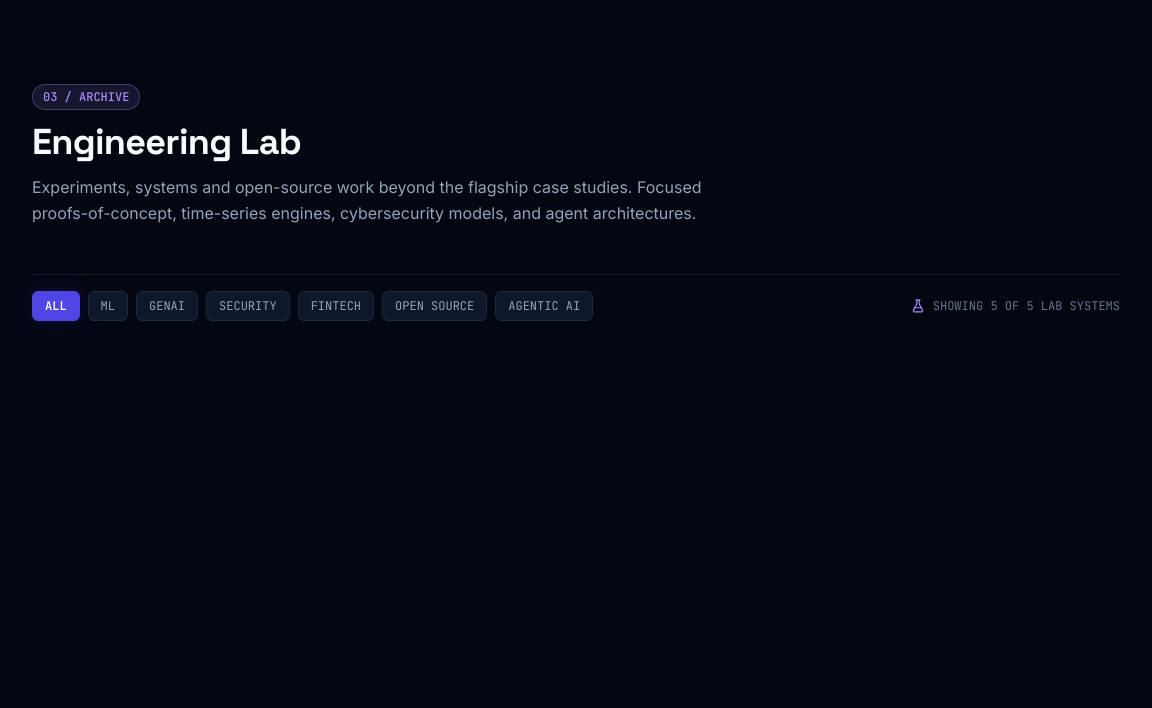
Scenario: Phase 4: How I Build & Engineering Lab › Engineering Lab (Technical Archive & Open Source) › filters projects interactively when selecting category buttons
Click the button "SECURITY": (248, 306) [206, 291, 290, 321]
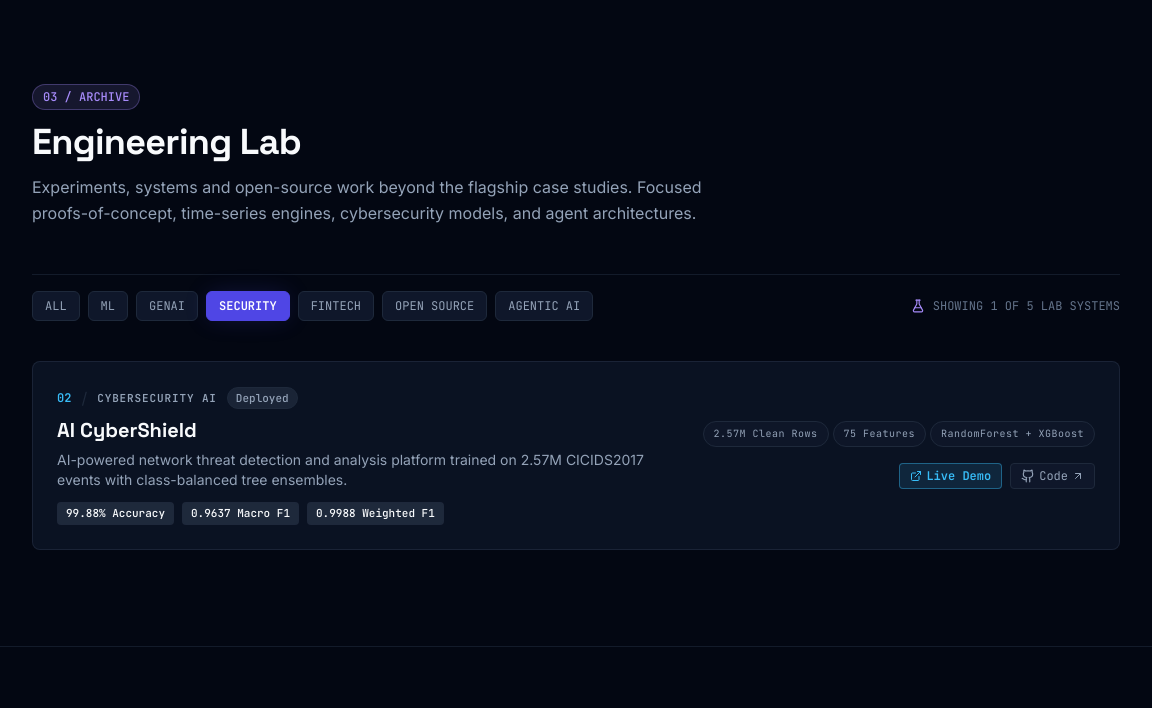
expect the text "TriviaPay" is not shown: met
expect the heading "AI CyberShield" is shown: met, box [57, 417, 197, 443]
Reset to ALL
Click the button "ALL": (56, 306) [32, 291, 80, 321]
(page scrolled)
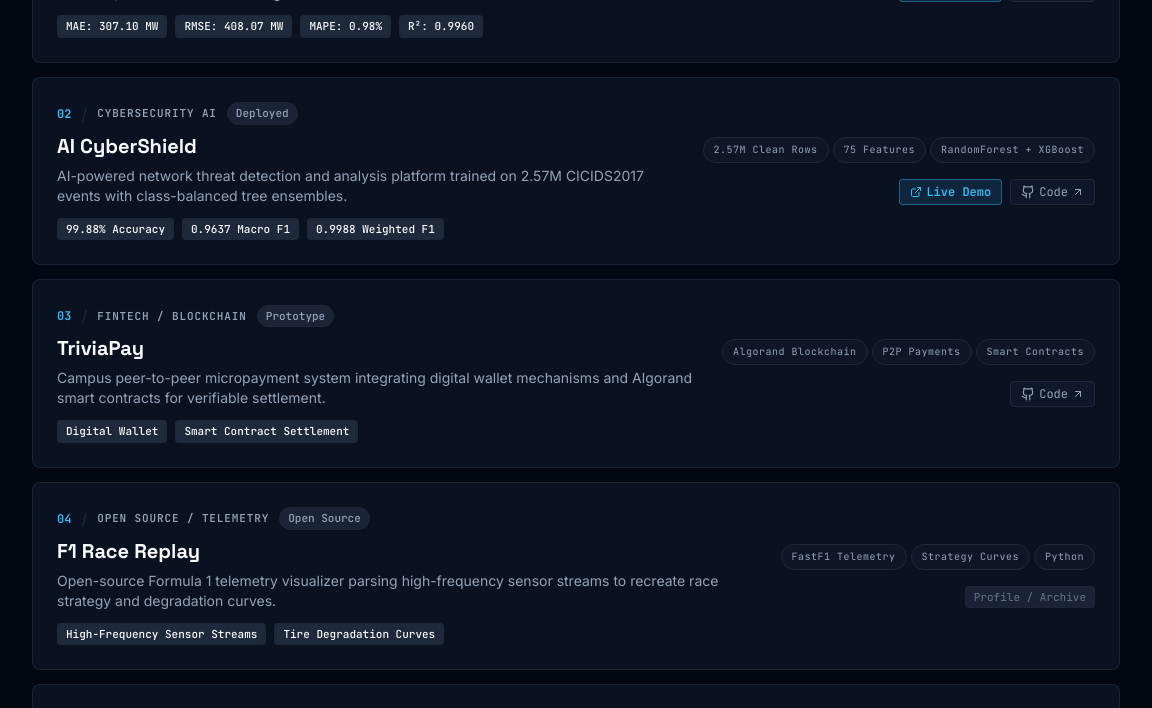
expect the heading "TriviaPay" is shown: met, box [57, 335, 144, 361]
